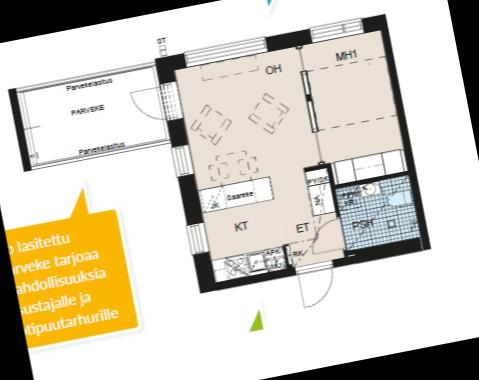door: (126, 81, 183, 129), (294, 260, 340, 310), (305, 216, 349, 258)
window: (178, 34, 272, 71), (303, 15, 368, 48), (181, 217, 211, 259), (167, 142, 196, 182)
